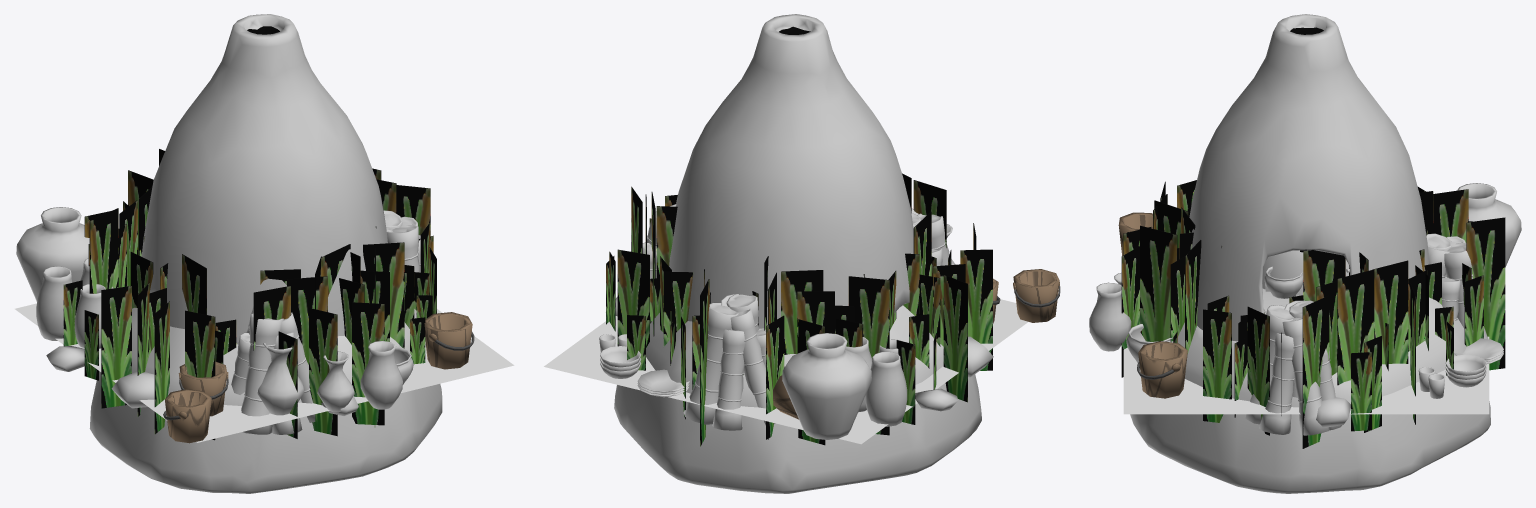
Rendered from BasicMaterials1.fbx.
The picture shows the model from 3 angles, left to right: view 1: azimuth 30°, elevation 25°; view 2: azimuth 150°, elevation 25°; view 3: azimuth 270°, elevation 25°; orthographic projection.
Visible parts, largest first — view 1: Kiln.001, Pile.001, Ground.001, Thatch.004, Pottery.008, Reed.025, Reed.107, Reed.108, Bucket.001, Reed.088, Reed.035, Bucket.004 (+29 smaller); view 2: Kiln.001, Pile.001, Thatch.003, Pottery.008, Ground.001, Reed.025, Reed.088, Reed.030, Pottery.006, Reed.071, Bucket.004, Reed.022 (+22 smaller); view 3: Kiln.001, Pile.001, Ground.001, Thatch.002, Reed.089, Reed.063, Reed.053, Reed.083, Reed.021, Reed.081, Bucket.001, Thatch.003 (+26 smaller).
Part boxes in pixels (<box>): Kiln.001: <box>141,14,387,344</box>; Pile.001: <box>89,307,442,493</box>; Ground.001: <box>15,303,514,442</box>; Thatch.004: <box>231,306,315,434</box>; Pottery.008: <box>16,207,89,301</box>; Reed.025: <box>101,286,131,408</box>; Reed.107: <box>352,302,384,425</box>; Reed.108: <box>309,308,337,436</box>; Bucket.001: <box>424,312,474,369</box>; Reed.088: <box>89,208,118,293</box>; Reed.035: <box>363,242,404,348</box>; Bucket.004: <box>163,389,211,443</box>; Kiln.001: <box>669,14,913,328</box>; Pile.001: <box>614,305,981,493</box>; Thatch.003: <box>683,294,775,430</box>; Pottery.008: <box>782,333,871,439</box>; Ground.001: <box>544,299,1028,444</box>; Reed.025: <box>943,275,967,402</box>; Reed.088: <box>848,276,889,435</box>; Reed.030: <box>960,249,992,370</box>; Pottery.006: <box>865,352,907,426</box>; Reed.071: <box>617,249,649,347</box>; Bucket.004: <box>1013,269,1060,322</box>; Reed.022: <box>781,270,823,354</box>; Kiln.001: <box>1189,14,1428,341</box>; Pile.001: <box>1130,297,1490,493</box>; Ground.001: <box>1123,336,1489,414</box>; Thatch.002: <box>1245,300,1341,435</box>; Reed.089: <box>1466,217,1505,370</box>; Reed.063: <box>1140,225,1177,341</box>; Reed.053: <box>1337,269,1374,385</box>; Reed.083: <box>1372,260,1408,364</box>; Reed.021: <box>1203,309,1231,422</box>; Reed.081: <box>1302,295,1329,448</box>; Bucket.001: <box>1137,341,1187,398</box>; Thatch.003: <box>1426,233,1488,338</box>.
Bounding box in the file's own units: 696 × 726 × 673.
